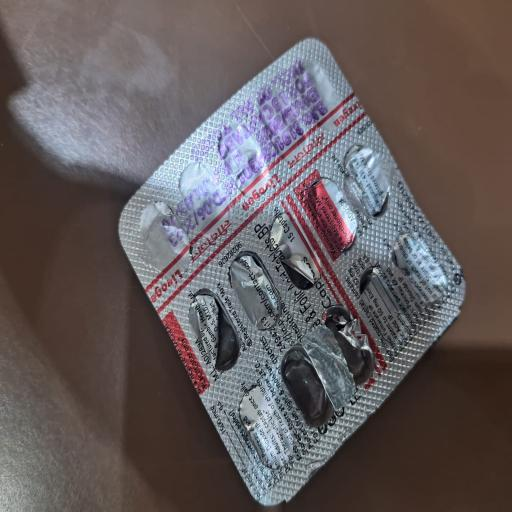livogen-tablet: (140, 258, 190, 314), (182, 217, 236, 265), (237, 175, 289, 213), (281, 131, 331, 168), (328, 90, 367, 134)
medicine: (102, 6, 476, 506)
